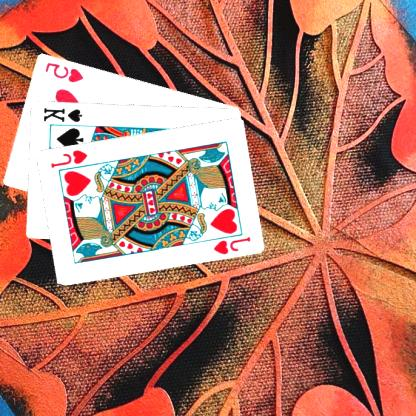5H: (44, 59, 86, 84)
JH: (212, 233, 253, 256), (50, 147, 90, 169)
KS: (42, 104, 85, 123)
